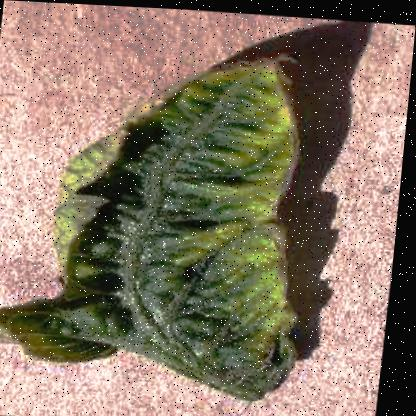BACTERIAL SPOT: (0, 27, 348, 415)
Virus: (0, 28, 337, 410)
